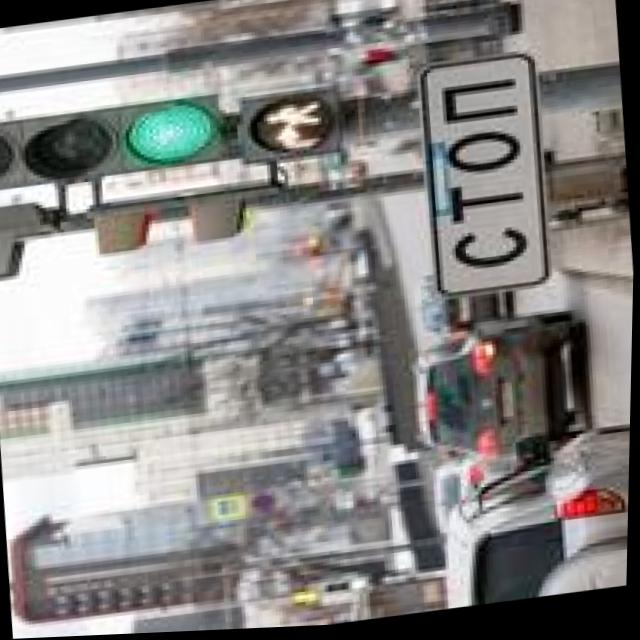green_light: (98, 45, 243, 235)
